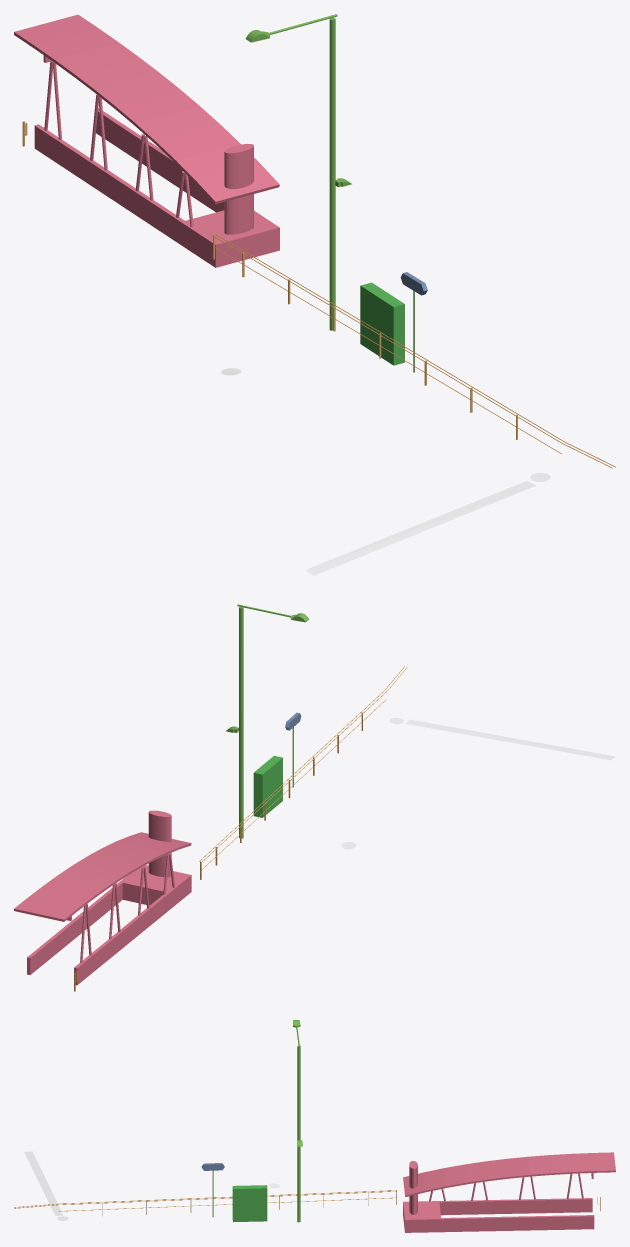
File: data175.glb
3 views of the same model, one above another, from view 1: azimuth 30°, elevation 25°; view 2: azimuth 150°, elevation 25°; view 3: azimuth 270°, elevation 25° (orthographic). The views are drawn at different scales.
Size of the model in its own units: 10.36 by 10.49 by 31.42.
